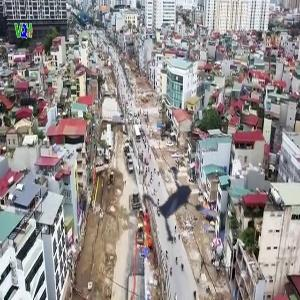drone: (131, 156, 238, 263)
